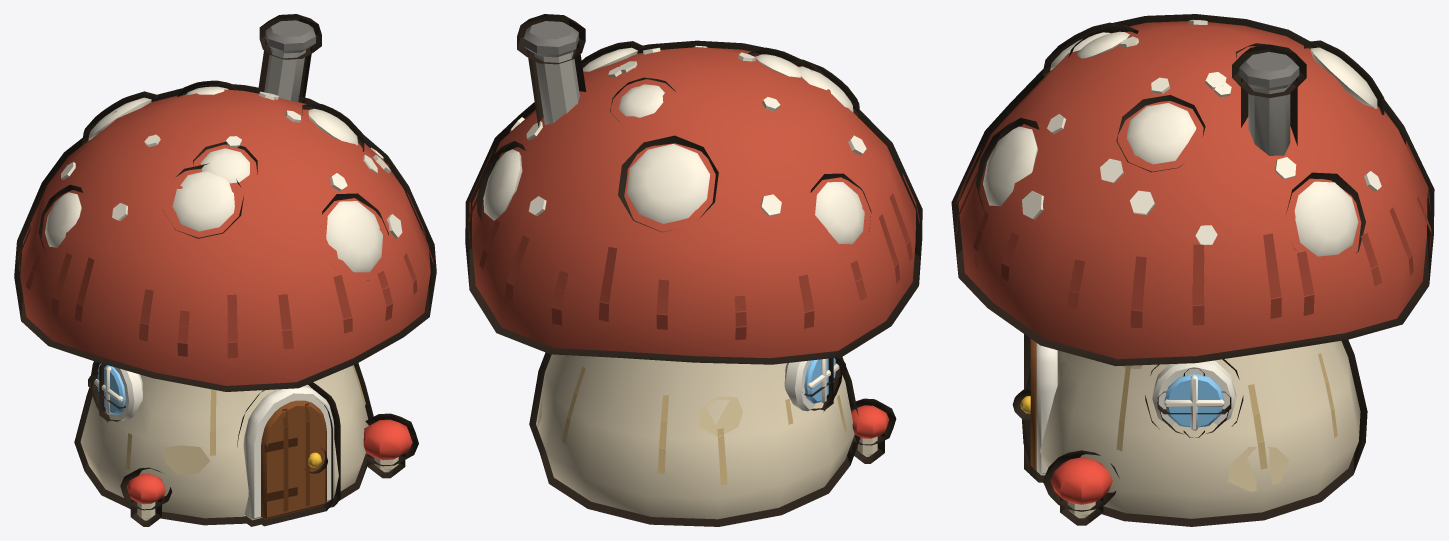
Rendered from house-4.glb.
The picture shows the model from 3 angles, left to right: view 1: azimuth 30°, elevation 25°; view 2: azimuth 150°, elevation 25°; view 3: azimuth 270°, elevation 25°; orthographic projection. The views are drawn at different scales.
Parts seen in each view (by area): view 1: house-4; view 2: house-4; view 3: house-4.
Boxes of the visible parts, x1=… form: house-4: x1=14, y1=14, x2=436, y2=526; house-4: x1=465, y1=14, x2=922, y2=526; house-4: x1=951, y1=14, x2=1434, y2=526.
Size of the model in its own units: 3.27 by 3.37 by 3.22.
